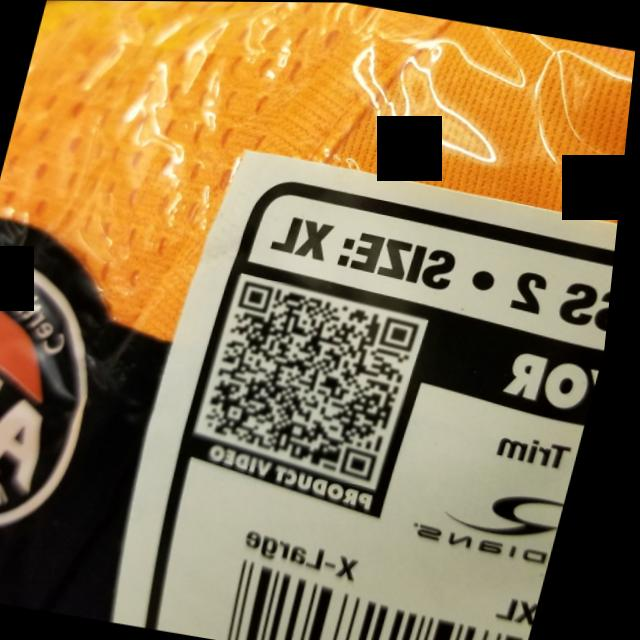QR_CODE: (194, 274, 438, 488)
